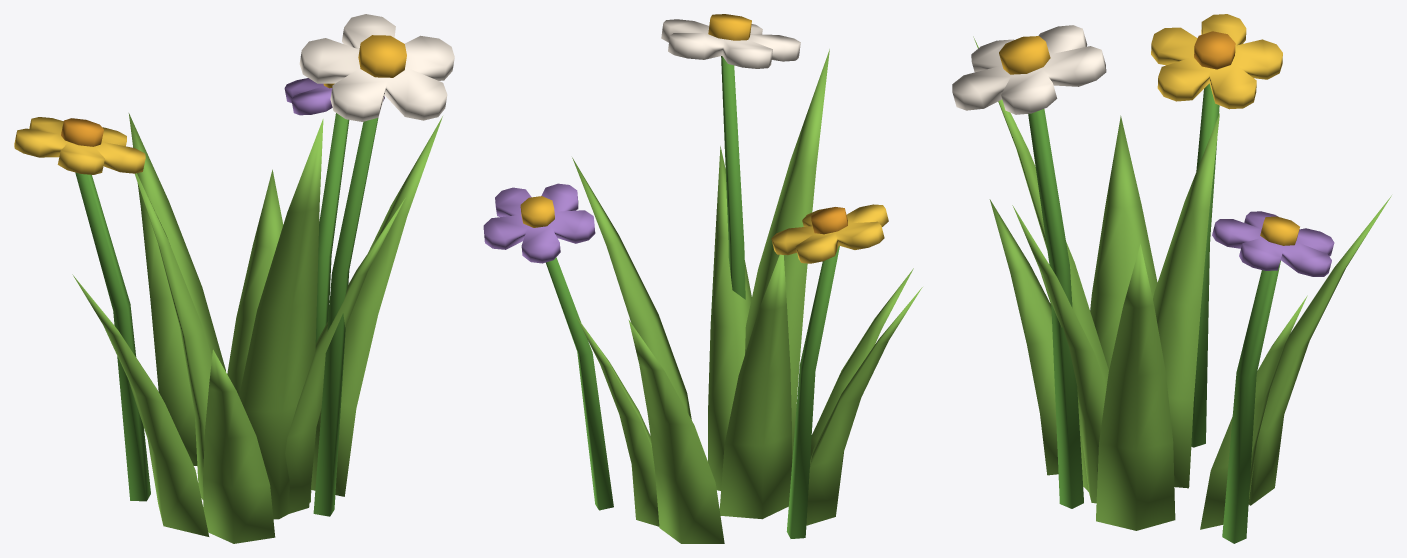
File: grass-tuft-flowers.glb
3 views of the same model, side by side, from view 1: azimuth 30°, elevation 25°; view 2: azimuth 150°, elevation 25°; view 3: azimuth 270°, elevation 25° (orthographic). The views are drawn at different scales.
Visible parts, largest first — view 1: body; view 2: body; view 3: body.
Boxes of the visible parts, x1,y1,x2,y2 form: body: [14, 14, 454, 543]; body: [483, 14, 922, 543]; body: [952, 14, 1391, 543].
Bounding box in the file's own units: 0.2325 × 0.2614 × 0.2171.
